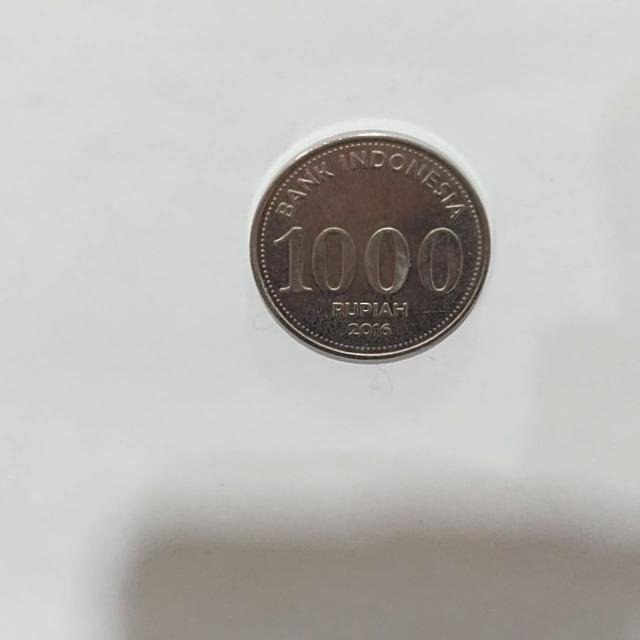Rp100: (247, 122, 491, 364)
